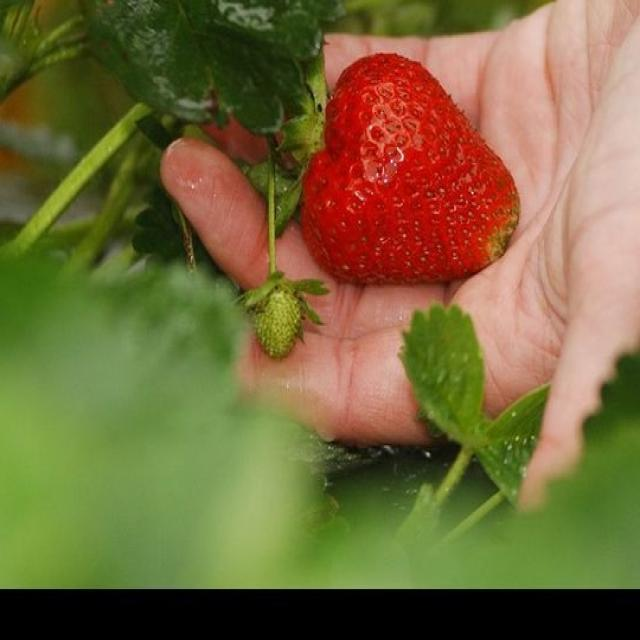strawberry: (244, 26, 530, 300)
